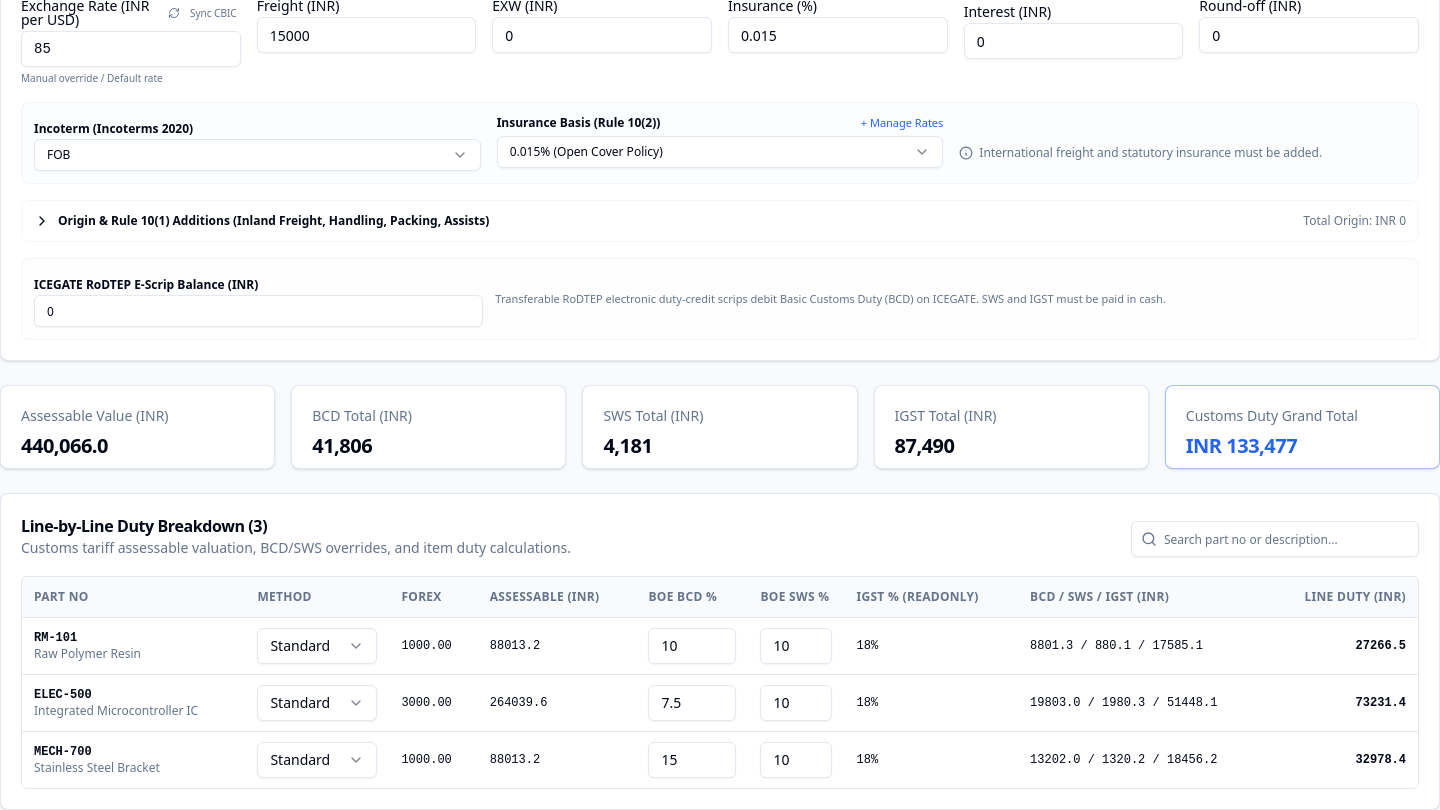
Test: Stage 6: BOE Registry & Duty Calculation Engine › filters Line-by-Line Duty Breakdown items by part number or description and preserves correct line updates
(page scrolled)
Expected: the text "Line-by-Line Duty Breakdown (3)" is shown, [21, 514, 267, 538]
Expected: the text "RM-101" is shown, [34, 630, 77, 644]
# Search by part number: 'elec'
In the field with placeholder "Search part no or description...": (1275, 539) [1131, 521, 1419, 557], type "elec"
(page scrolled)
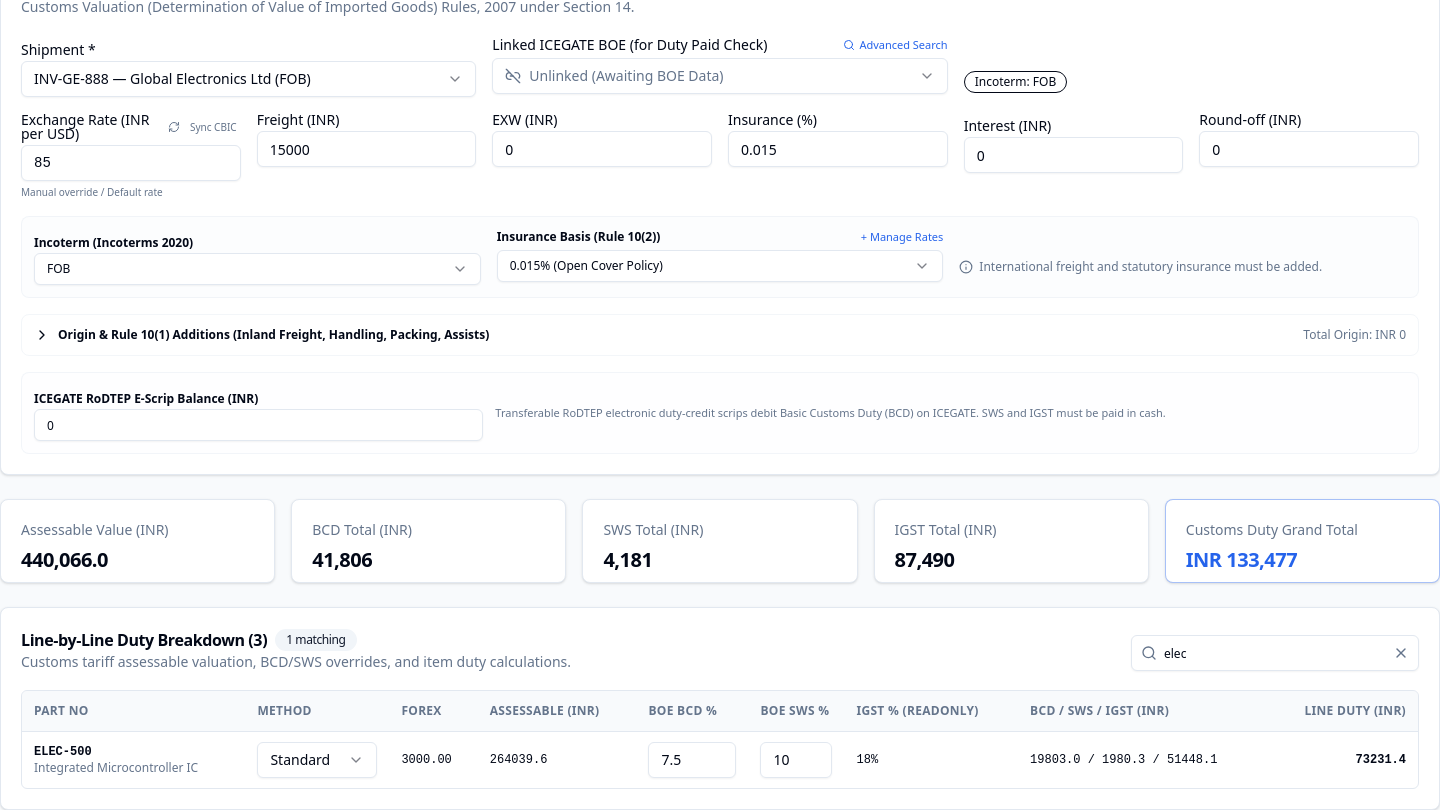
Result: the text "1 matching" is shown at [275, 629, 356, 651]
Result: the text "RM-101" is gone
Result: the text "MECH-700" is gone
# Edit BCD rate on the filtered item (ELEC-500, which was at original index 1)
Replace the text in the 1st number field showing "7.5" with "12.5": (692, 760) [648, 742, 736, 778]
# Search by description: 'Polymer'
Replace the text in the field with placeholder "Search part no or description..." with "Polymer": (1275, 653) [1131, 635, 1419, 671]
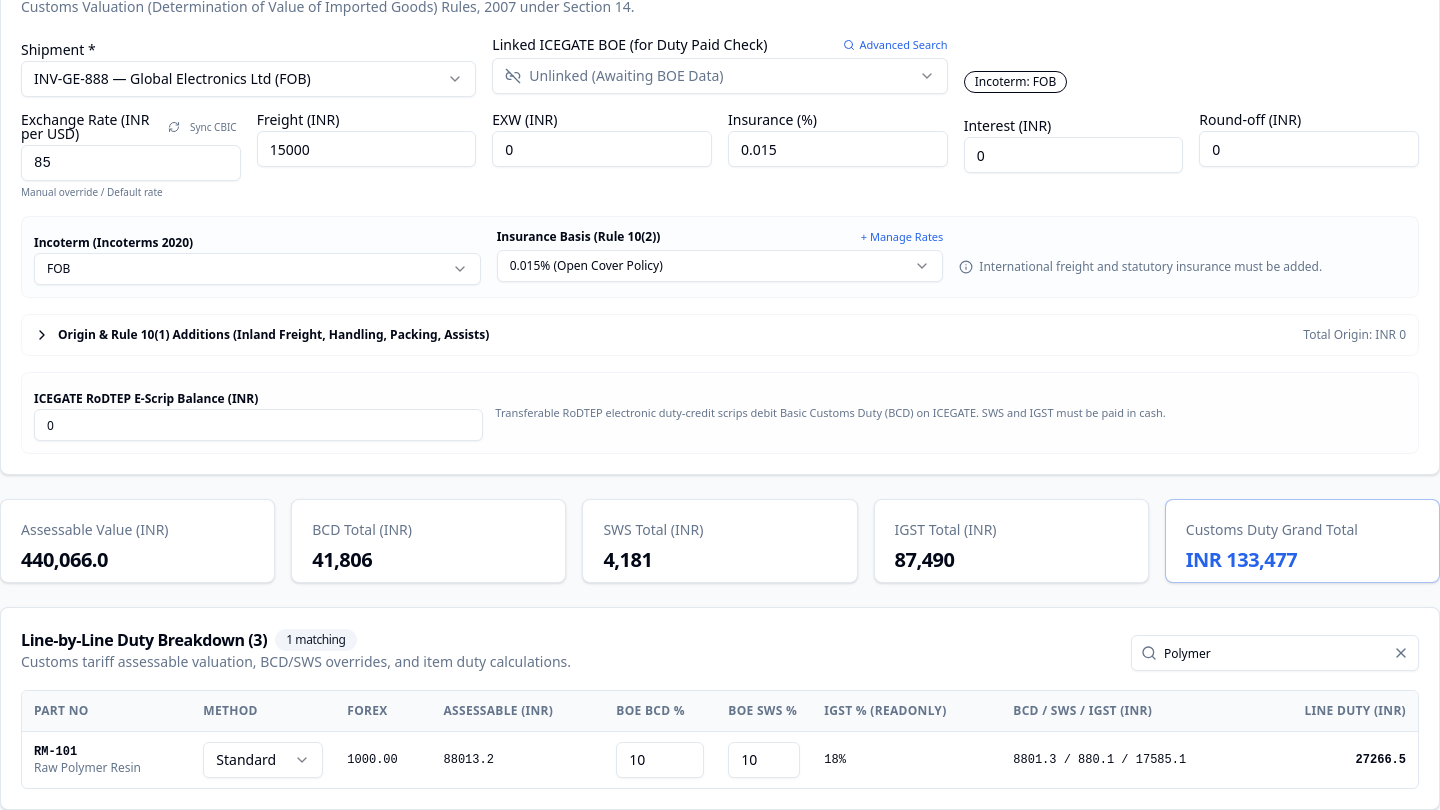
Result: the text "1 matching" is shown at [275, 629, 356, 651]
Result: the text "RM-101" is shown at [34, 744, 77, 758]
Result: the text "Raw Polymer Resin" is shown at [34, 758, 141, 776]
# Search with no matches
Replace the text in the field with placeholder "Search part no or description..." with "NonExistentItem99": (1275, 653) [1131, 635, 1419, 671]
(page scrolled)
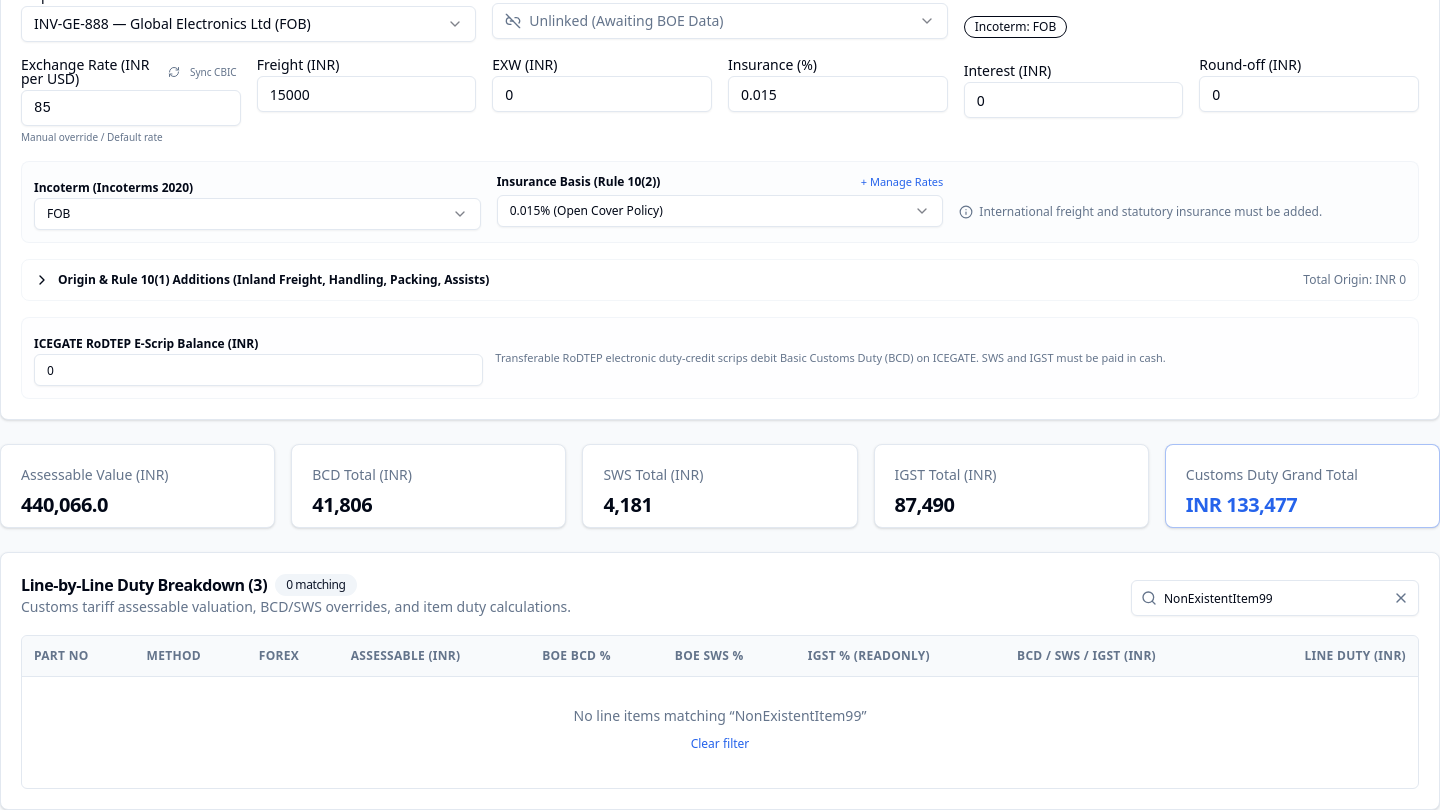
Expected: the text "ELEC-500" is not shown
Result: the text "No line items matching “NonExistentItem99”" is shown at [574, 706, 866, 726]
Result: the text "RM-101" is gone
# Clear search using clear button in empty state
Click the button "Clear filter": click(720, 744) [679, 730, 761, 758]
(page scrolled)
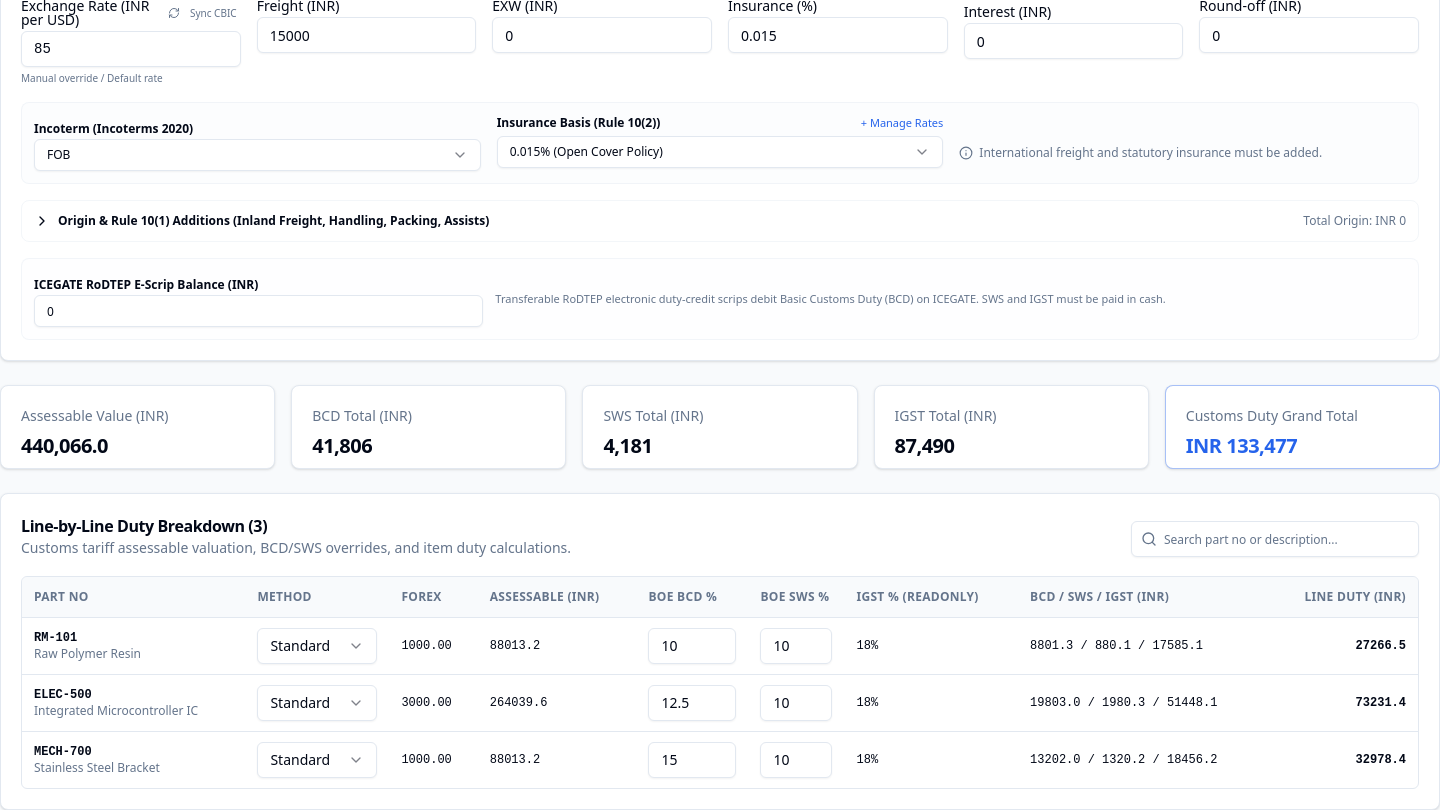
Result: the field with placeholder "Search part no or description..." is empty
Result: the text "RM-101" is shown at [34, 630, 77, 644]
Result: the text "ELEC-500" is shown at [34, 688, 92, 702]
# Test the inline clear icon button
In the field with placeholder "Search part no or description...": (1275, 539) [1131, 521, 1419, 557], type "bracket"
(page scrolled)
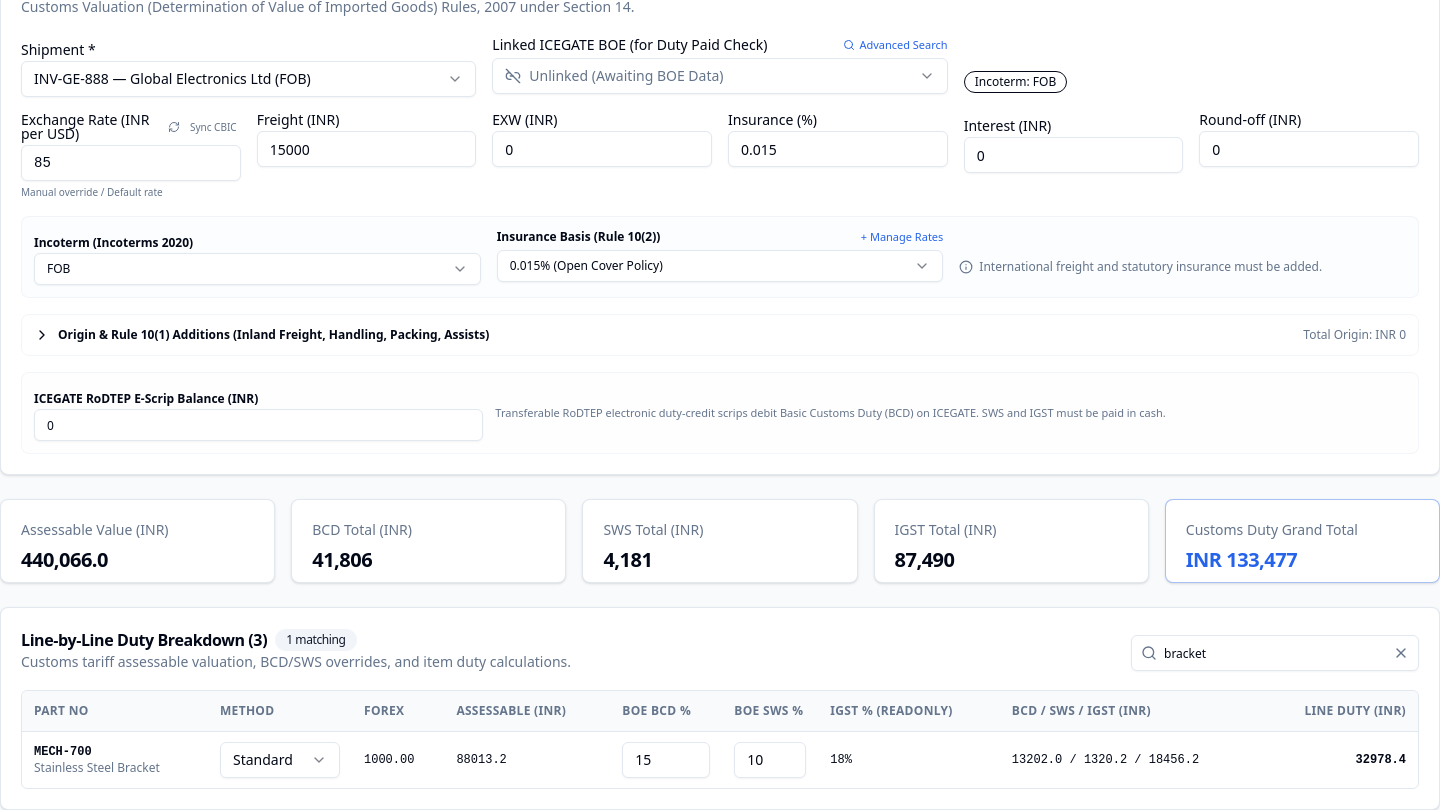
Result: the text "MECH-700" is shown at [34, 744, 92, 758]
Click the button titled "Clear search": click(1401, 653) [1393, 645, 1409, 661]
(page scrolled)
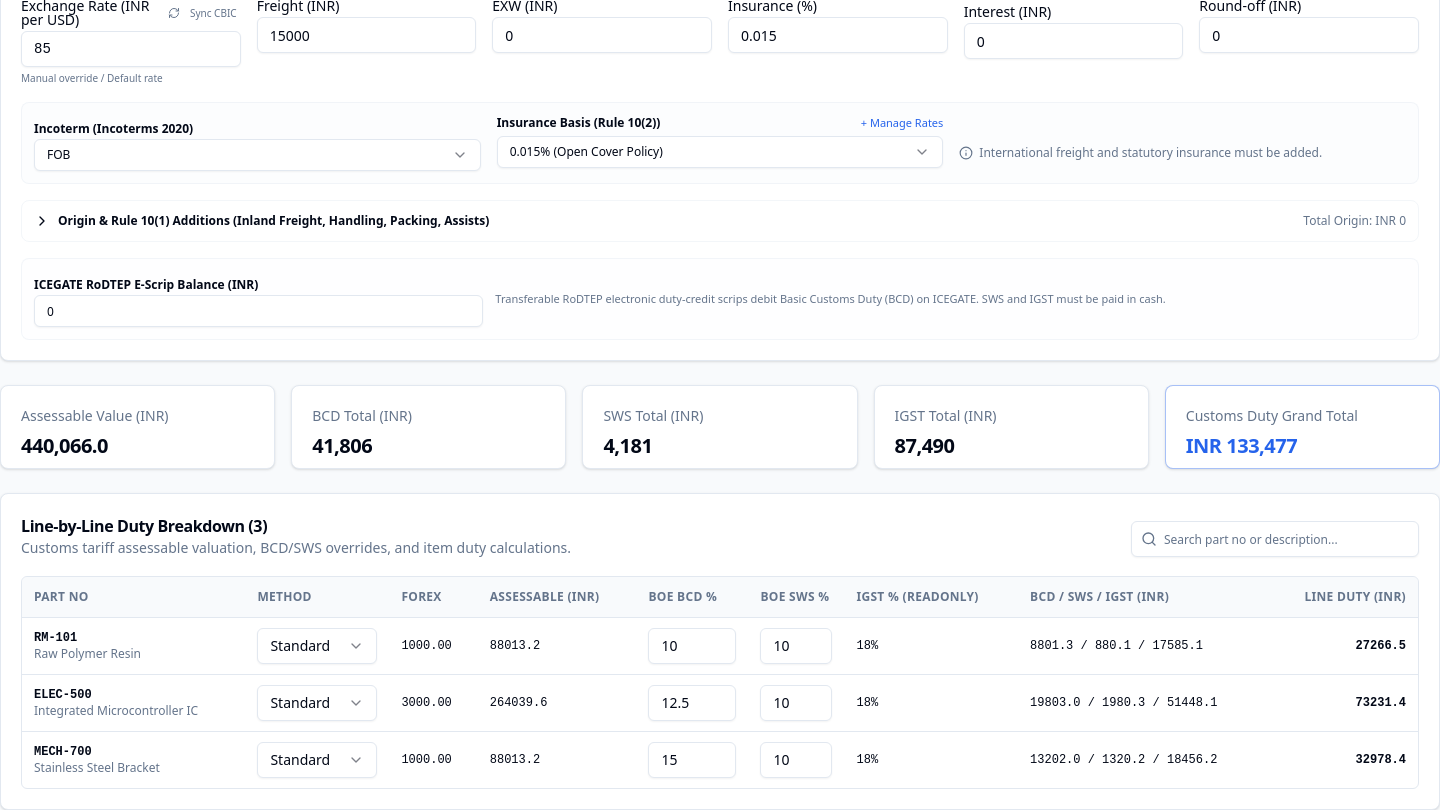
Result: the field with placeholder "Search part no or description..." is empty at [1131, 521, 1419, 557]
Result: the text "RM-101" is shown at [34, 630, 77, 644]
